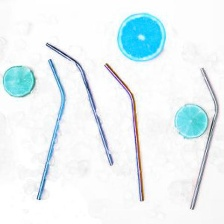drinking_straw: (39, 36, 116, 168), (97, 59, 149, 203), (26, 55, 69, 201), (182, 62, 222, 211)
